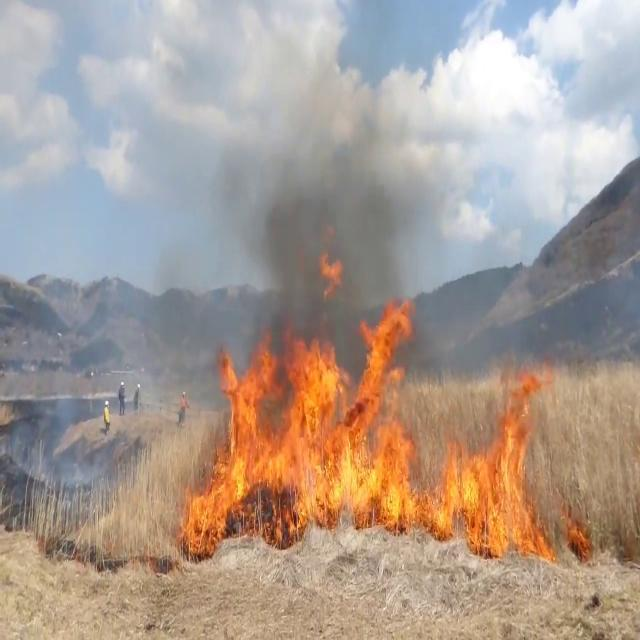Fire: (180, 290, 428, 541), (440, 381, 558, 560)
Smoke: (195, 66, 435, 360)
